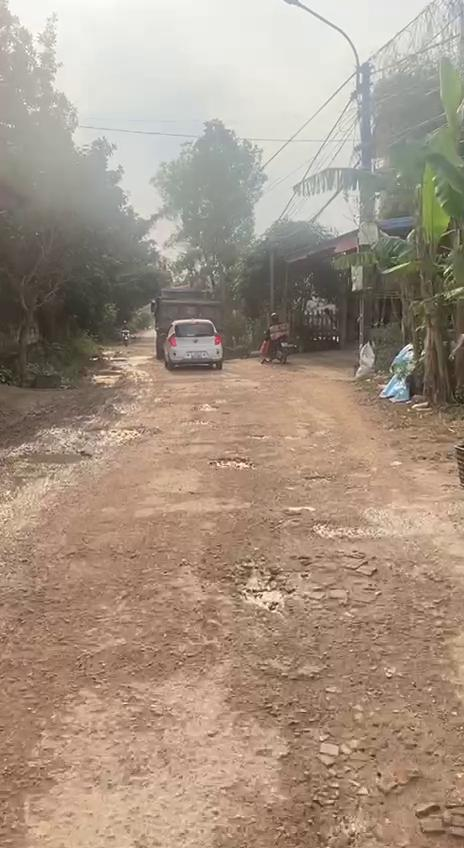pothole: (274, 693, 464, 848), (221, 555, 297, 621), (19, 443, 98, 468), (308, 518, 356, 542), (206, 452, 250, 473)
